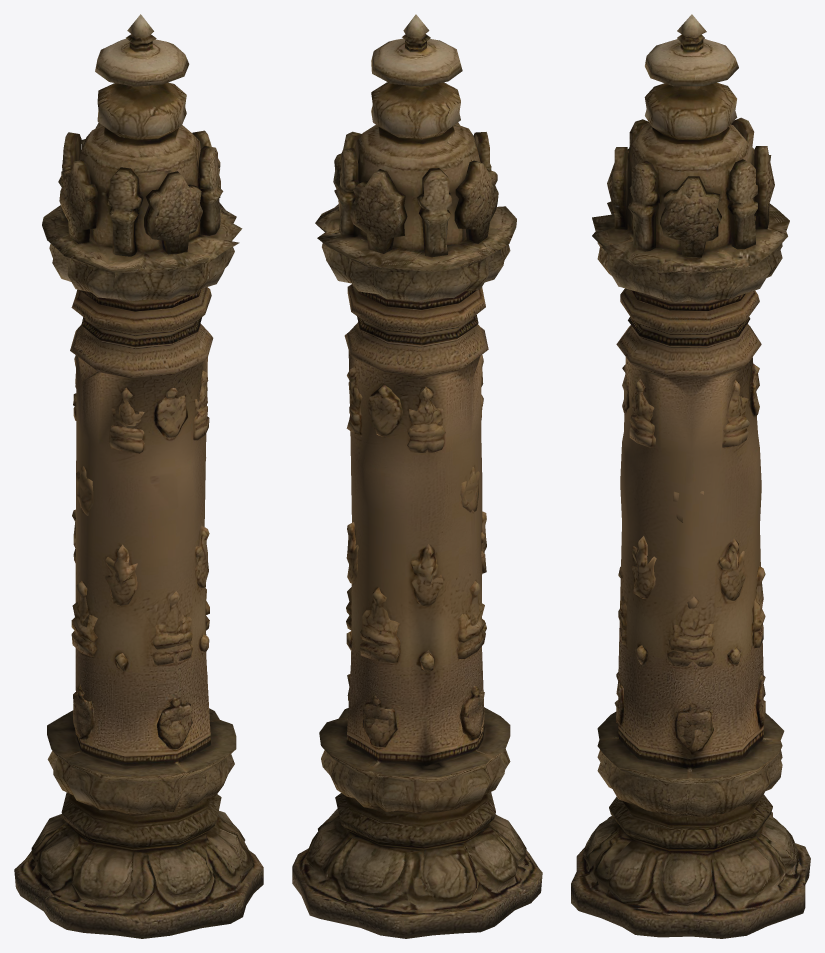
File: selected.glb
3 views of the same model, side by side, from view 1: azimuth 30°, elevation 25°; view 2: azimuth 150°, elevation 25°; view 3: azimuth 270°, elevation 25° (orthographic).
Parts seen in each view (by area): view 1: tripo_node_da5784ac-9a3d-487f-a863-ecf343816482; view 2: tripo_node_da5784ac-9a3d-487f-a863-ecf343816482; view 3: tripo_node_da5784ac-9a3d-487f-a863-ecf343816482.
Part boxes in pixels (x1,y1,x2,y2): tripo_node_da5784ac-9a3d-487f-a863-ecf343816482: (14,14,263,938); tripo_node_da5784ac-9a3d-487f-a863-ecf343816482: (292,14,542,938); tripo_node_da5784ac-9a3d-487f-a863-ecf343816482: (571,14,810,938).
Size of the model in its own units: 0.248 by 0.998 by 0.248.
Materials: 1 (1 with a texture image).
